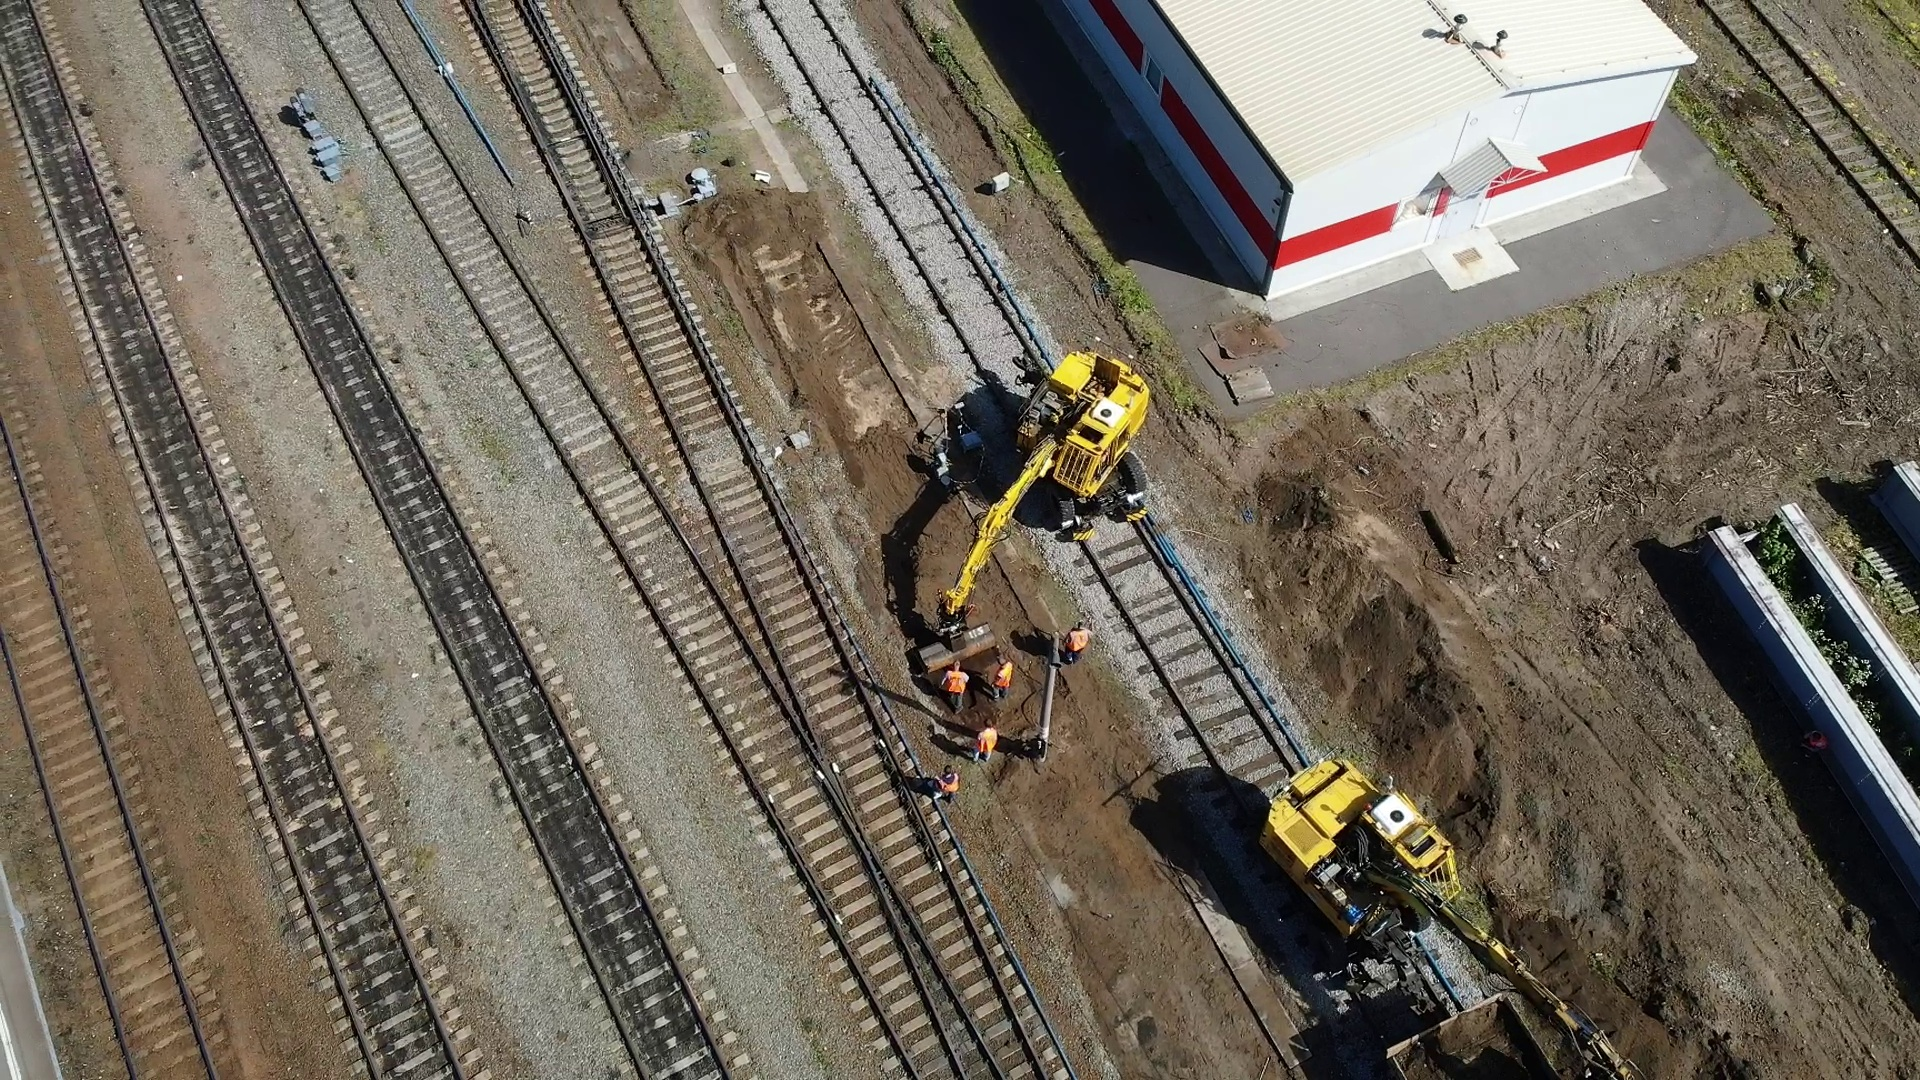kjtv: (1257, 735, 1461, 965), (1004, 340, 1150, 521)
